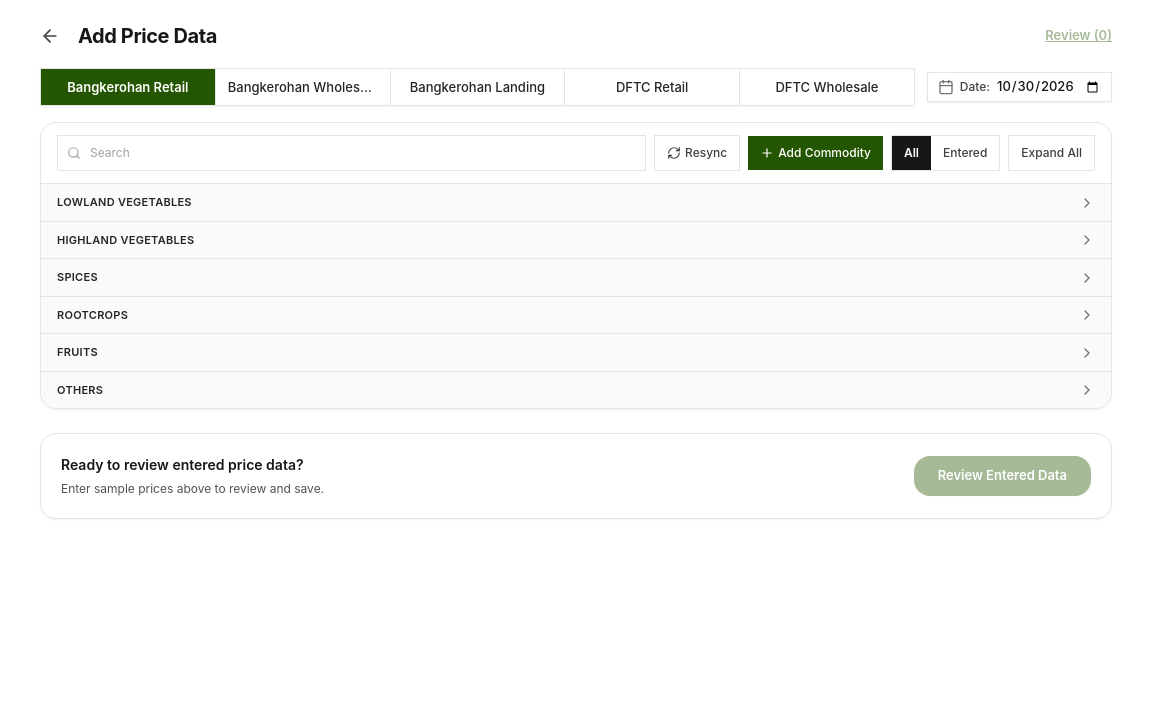
Scenario: DFTCPriceInput Multi-Market Unified Entry & Review › navigates to consolidated review mode and displays the Image 2 style table
# Expand and enter a price
Click the button "Lowland Vegetables" at (124, 202), box left=41, top=184, right=1111, bottom=221
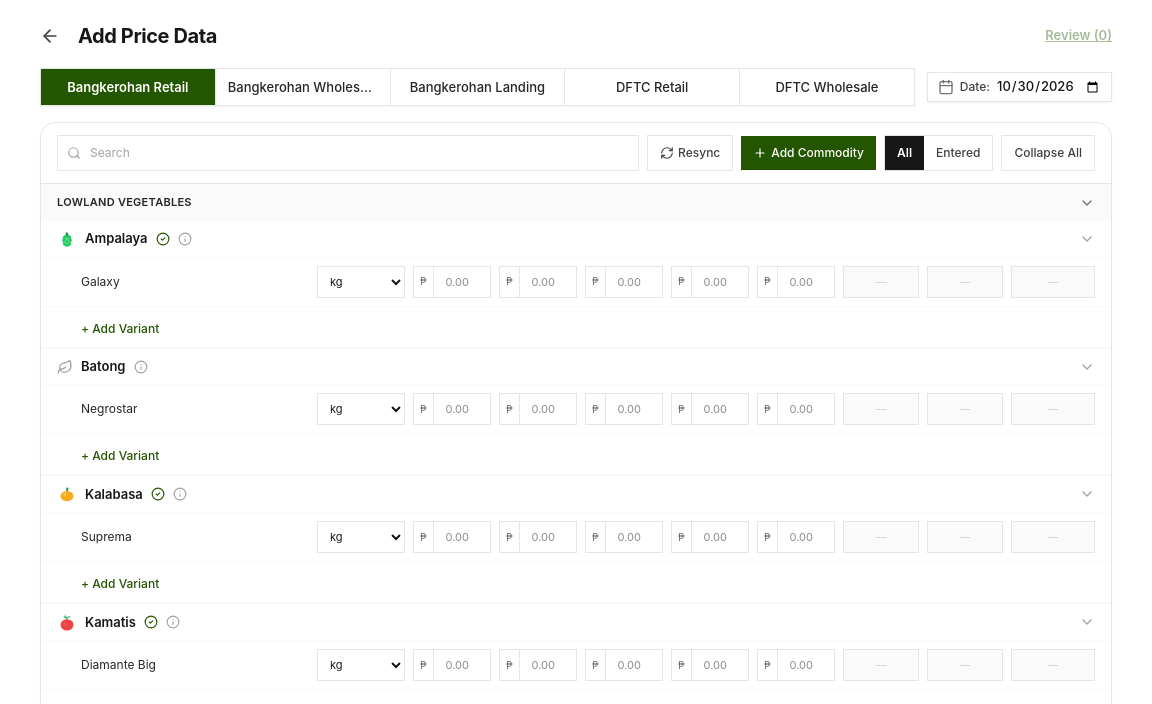
Type "35" into the 1st number field with placeholder "0.00" at (462, 282), box left=434, top=274, right=490, bottom=290
(page scrolled)
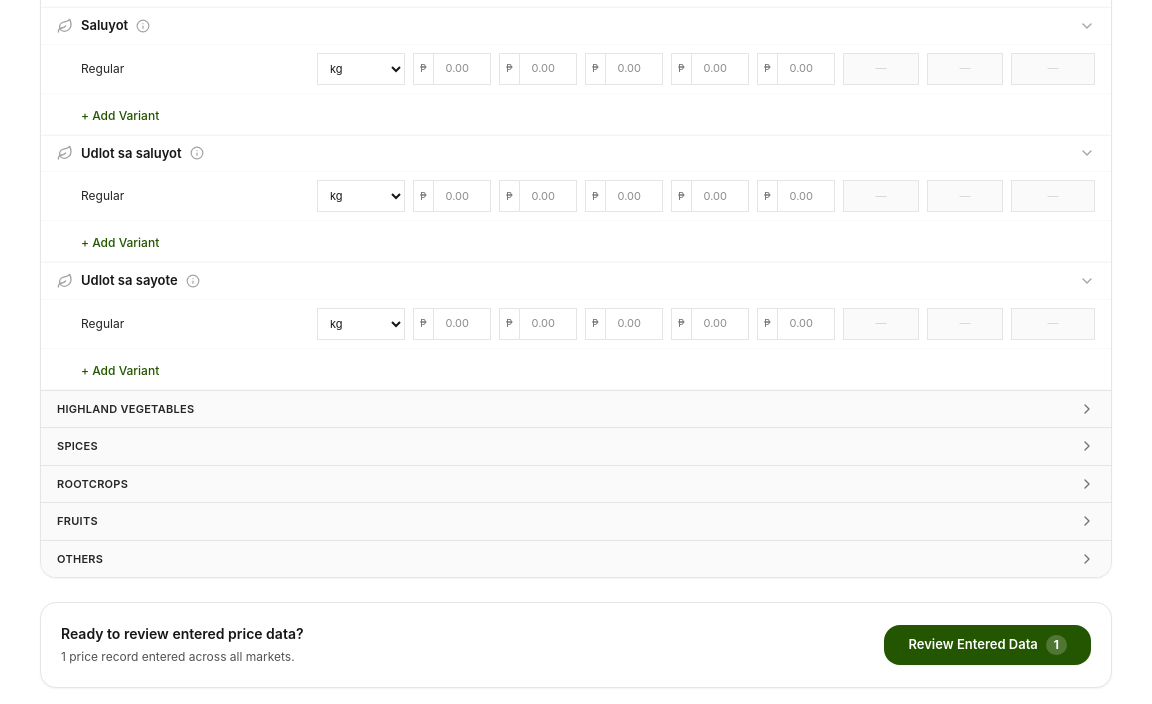
# Click Review Entered Data button
Click the button "Review Entered Data 1" at (988, 645), box left=884, top=625, right=1091, bottom=665
(page scrolled)
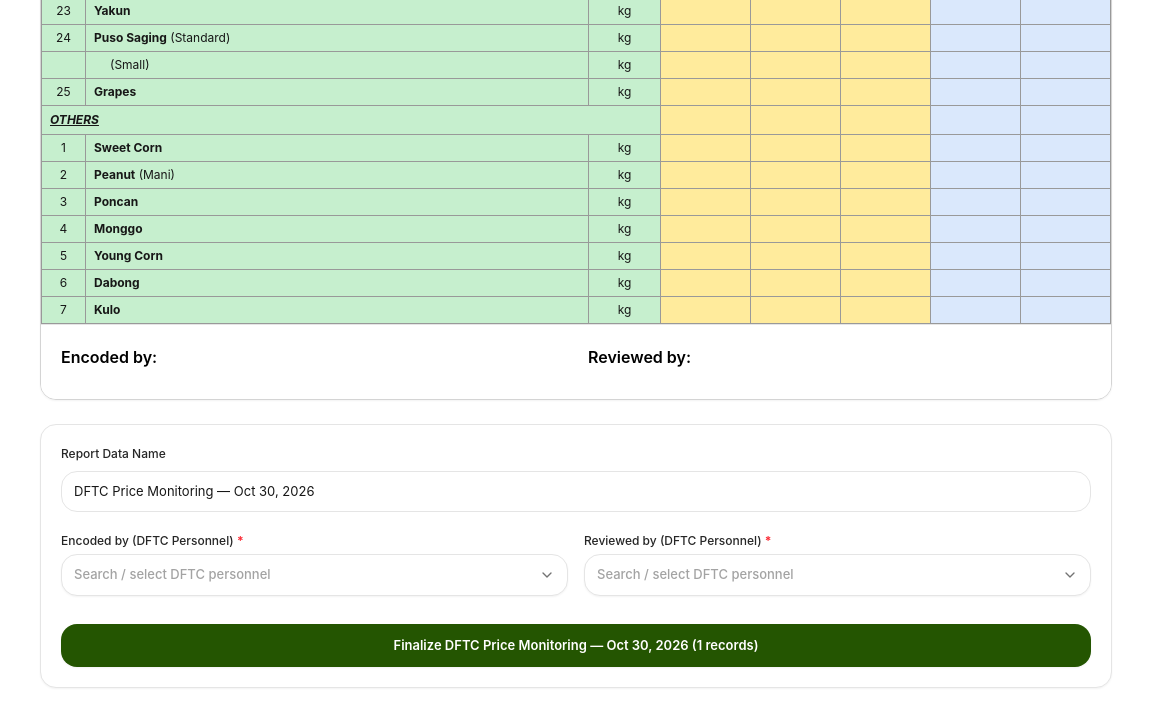
Expected: the button "Finalize DFTC Price Monitoring — Oct 30, 2026 (1 records)" is shown, left=61, top=624, right=1091, bottom=667
